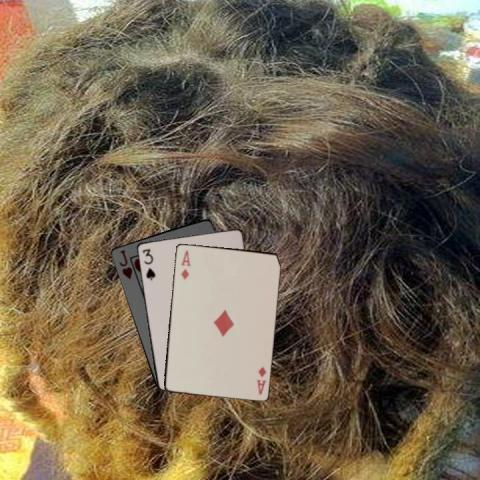3s: (139, 246, 157, 281)
Ad: (254, 363, 268, 396), (178, 247, 191, 281)
Jh: (116, 246, 133, 280)
